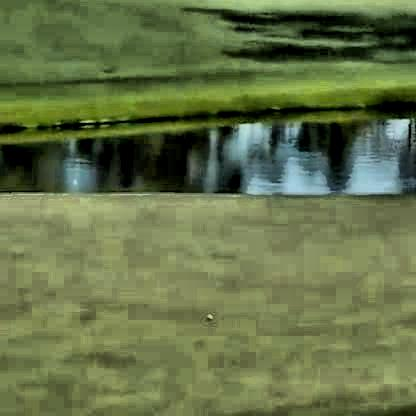golfball: (202, 313, 212, 318)
